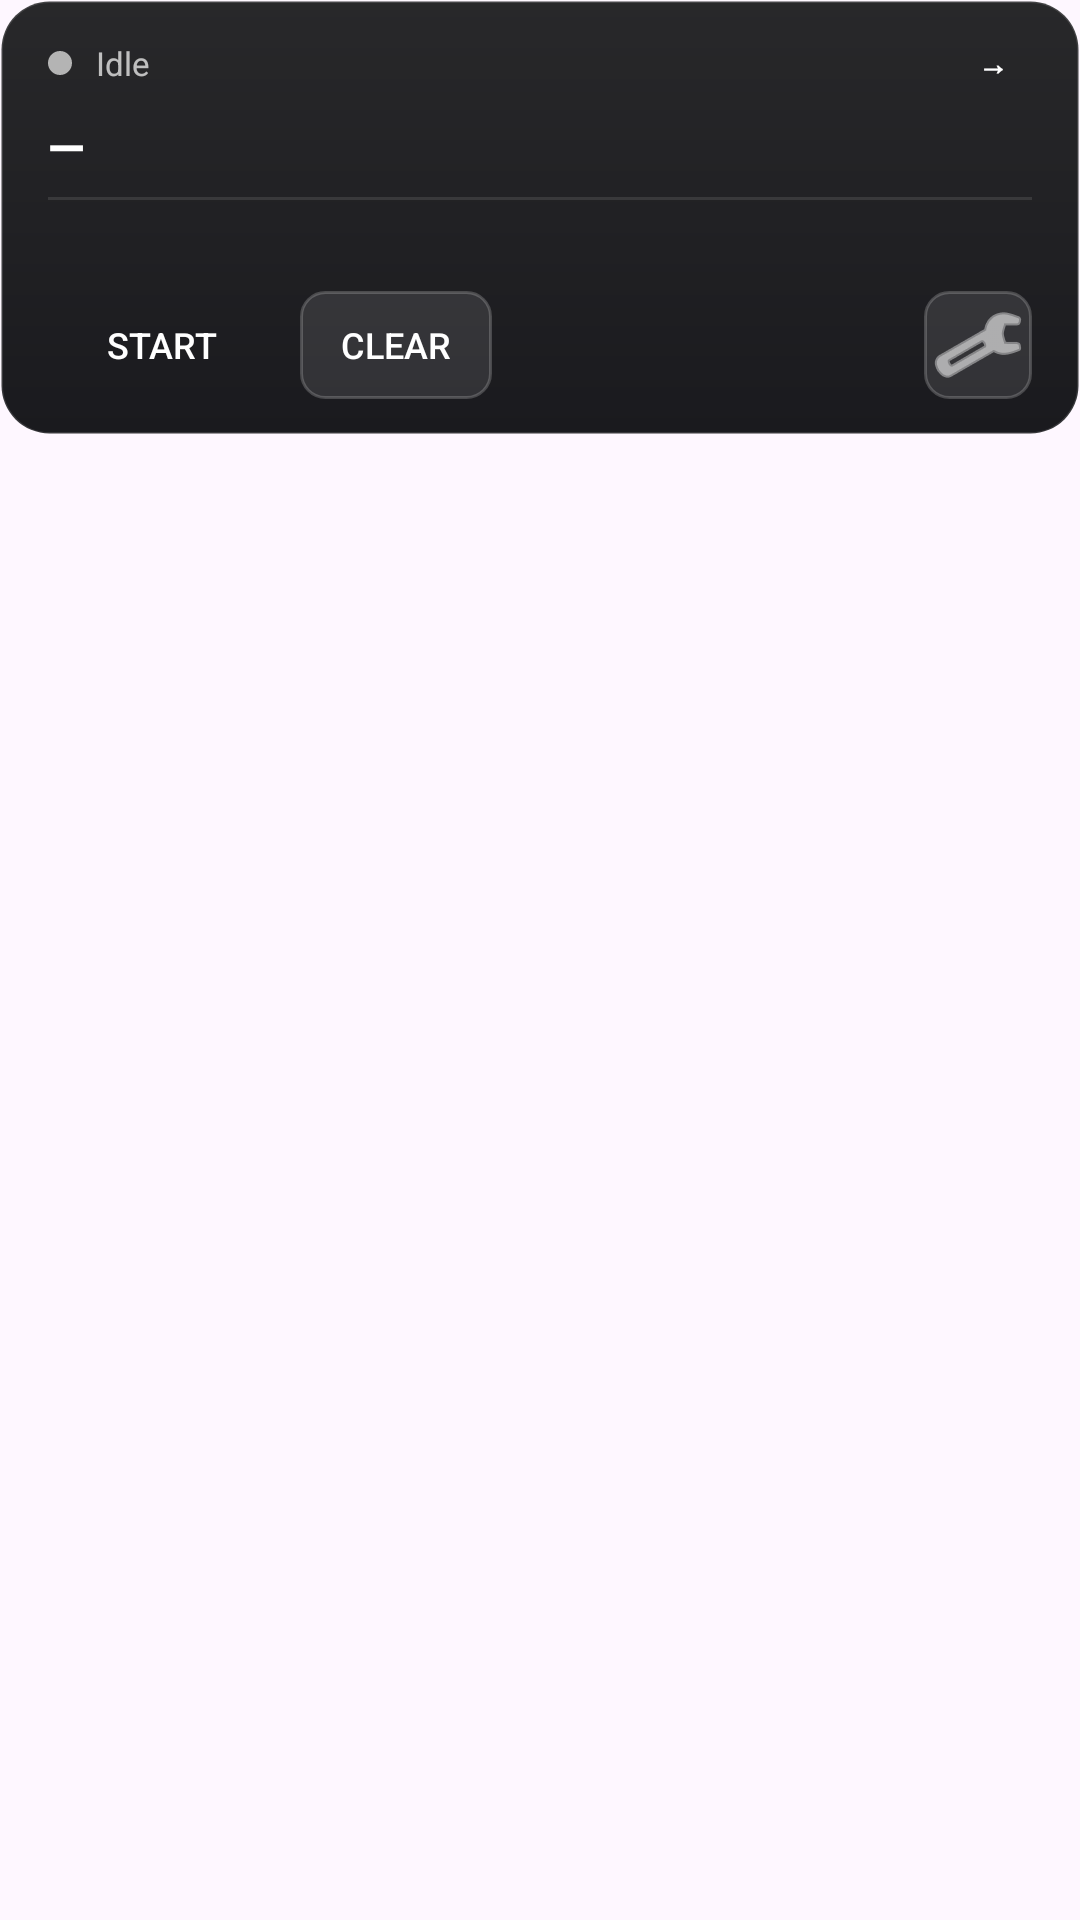

Screen size 1080px x 1920px. Icon name, then its box in pixels as {"x1": x1, "y1": y1, "x2": x2, "y2": y2}:
Settings: {"x1": 924, "y1": 291, "x2": 1032, "y2": 399}
